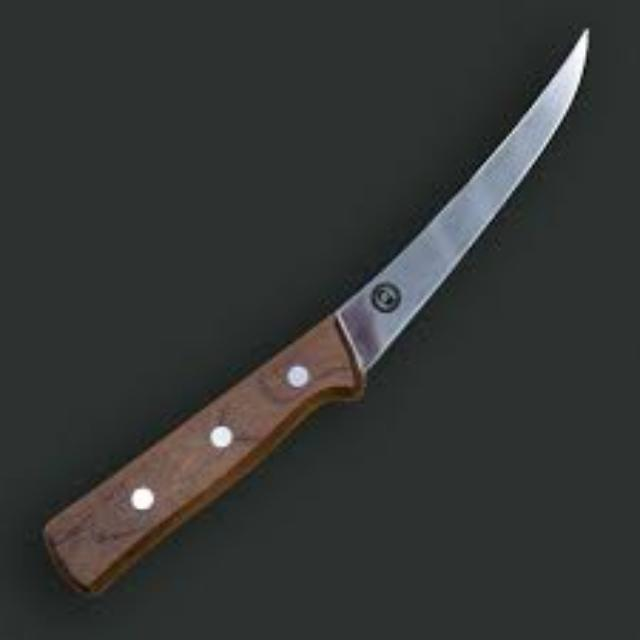knife: (40, 26, 588, 594)
